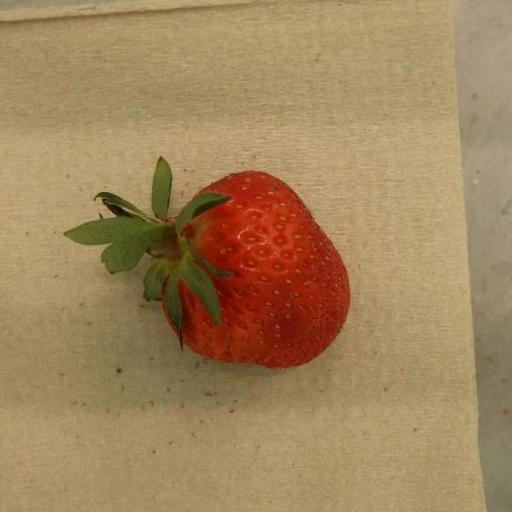Strawberry: (65, 158, 352, 369)
